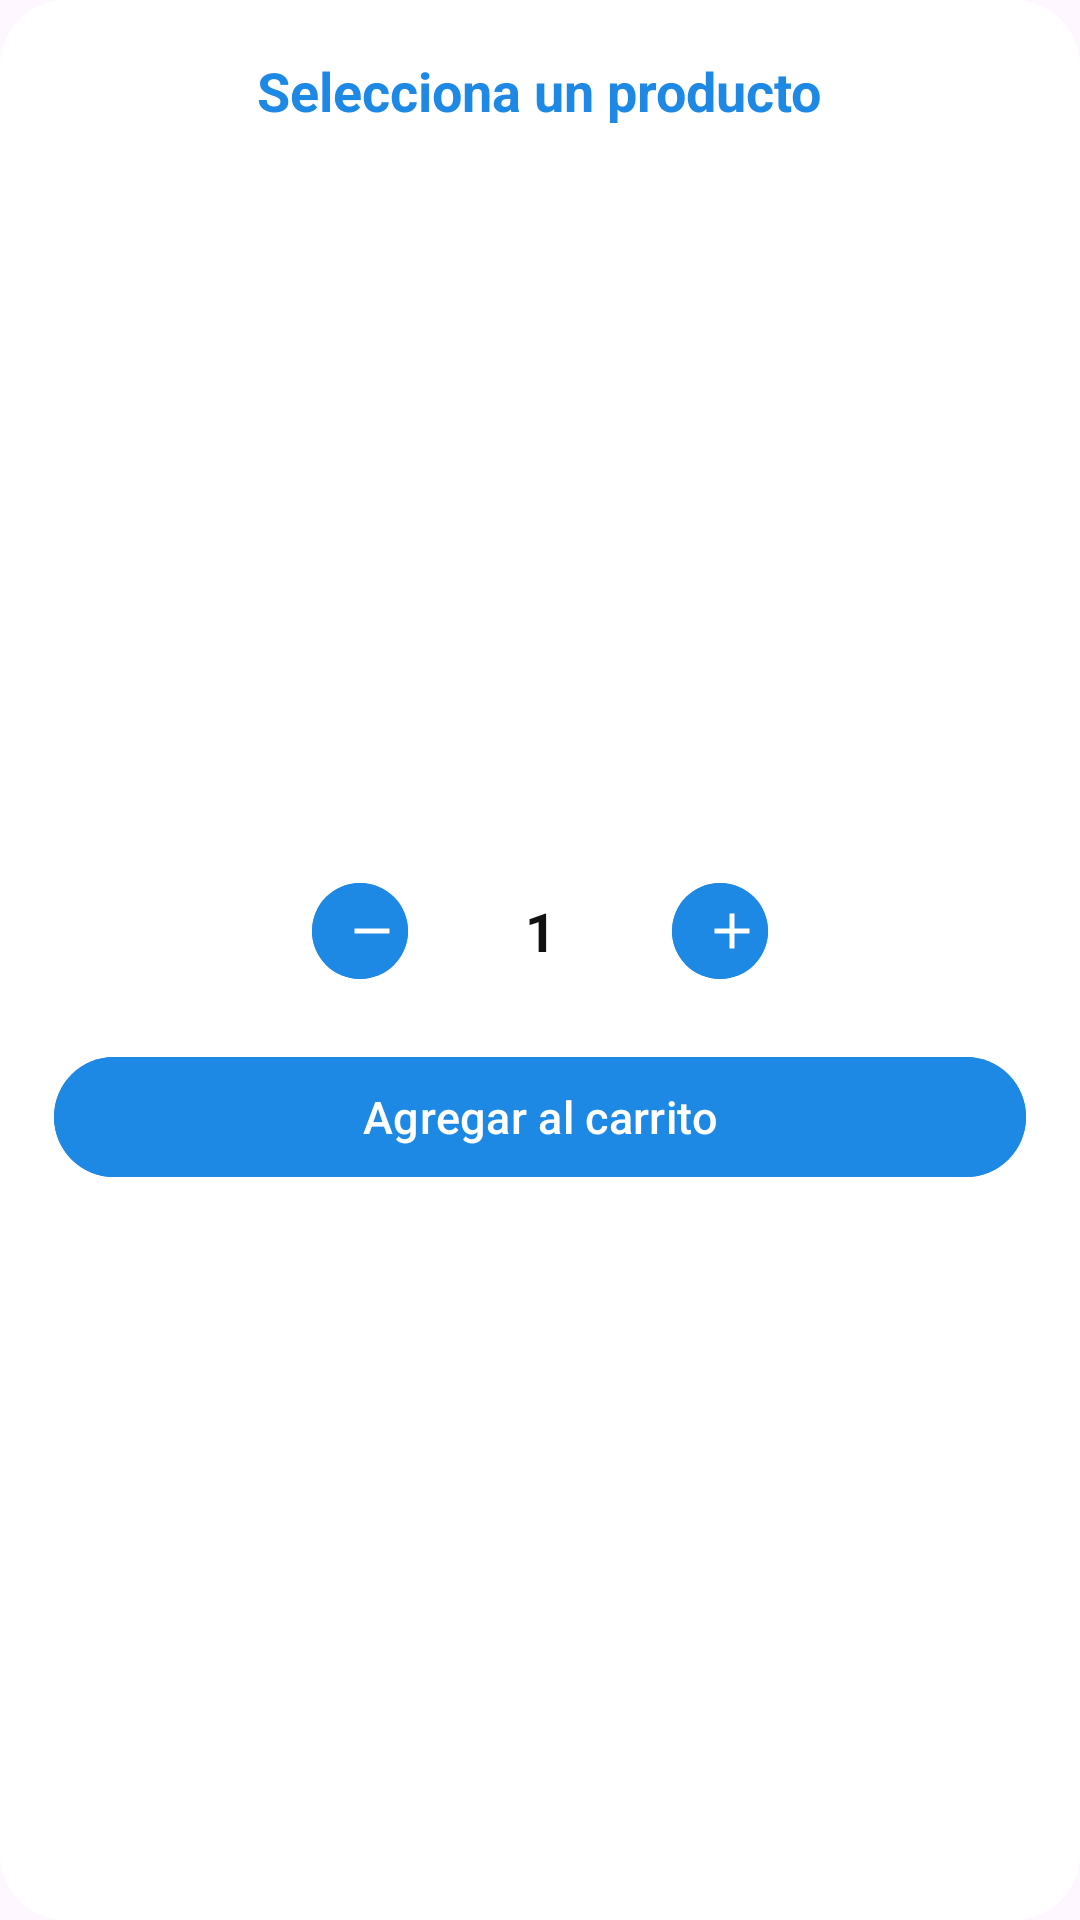

Icons on this 1080px x 1920px Android screen, each with the point to tap as point (x, y):
add: point (720, 931)
remove: point (360, 931)
